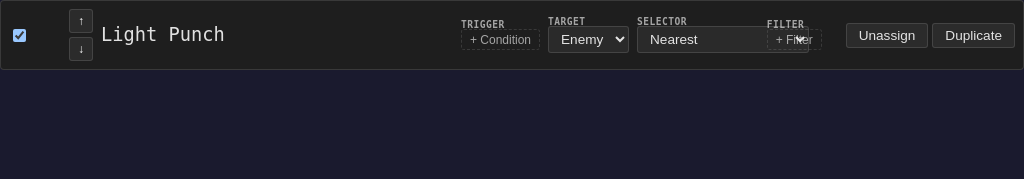
Test: SkillNameWithTooltip › Integration › works in SkillRow context
Find and hover over the skill name
Step 1. Hover over the text "Light Punch" → (163, 34), box [101,24,225,45]
Wait 150 ms
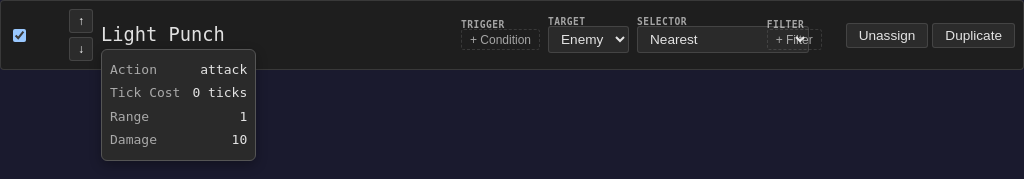
Now the tooltip "Action attack Tick Cost 0 ticks Range 1 Damage 10" is shown, box [101,49,256,161]
Now the tooltip shows "Damage", box [110,132,157,148]
Now the tooltip shows "10", box [232,132,247,148]
